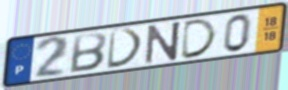0: (221, 12, 254, 54)
2: (34, 34, 70, 81)
B: (67, 31, 109, 75)
D: (179, 16, 220, 61), (106, 26, 146, 71)
N: (143, 19, 183, 66)
